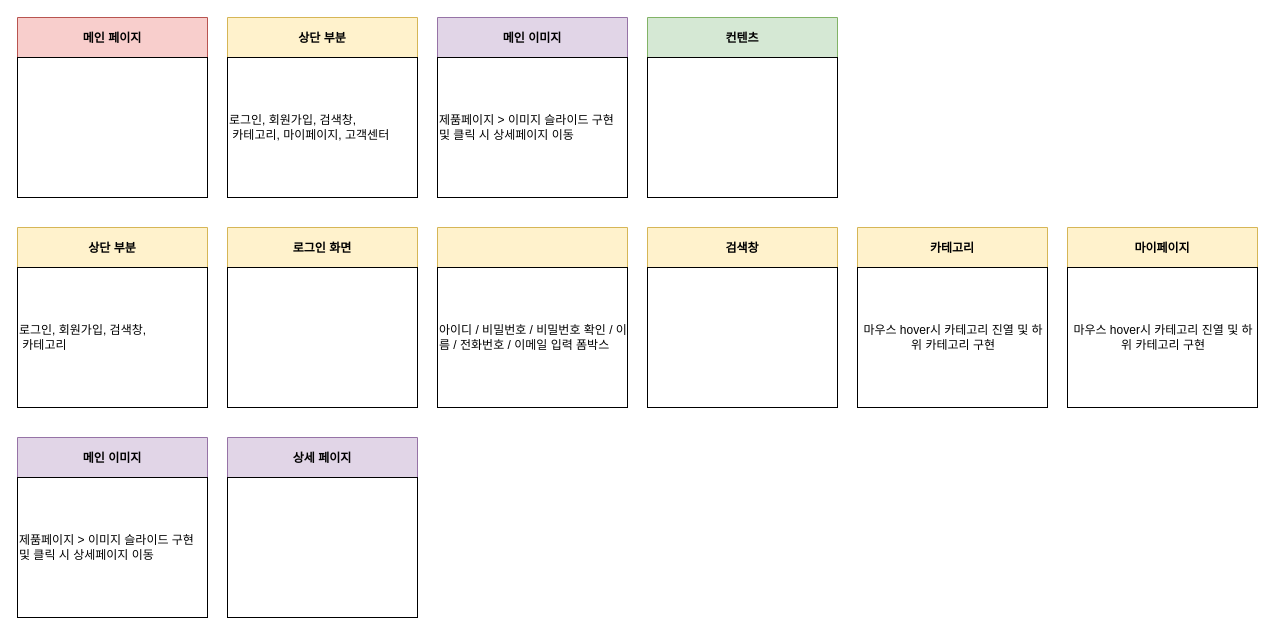
This 1275x635 diagram has some shape labels left out. The shapes that lost their labels are listed below. From the top down, each one's box as (x1, y1, x2, y2) in pixels, then its label:
(16, 56, 208, 198): 상단, 메인이미지, 컨텐츠
(226, 266, 418, 408): 아이디/패스워드 입력 폼박스 자동로그인 SNS로그인 기능 아이디/비밀번호 찾기 로그인 버튼 / 회원가입 버튼
(436, 226, 628, 408): 회원가입 화면
(646, 266, 838, 408): 입력에 따른 결과 출력기능 구현
